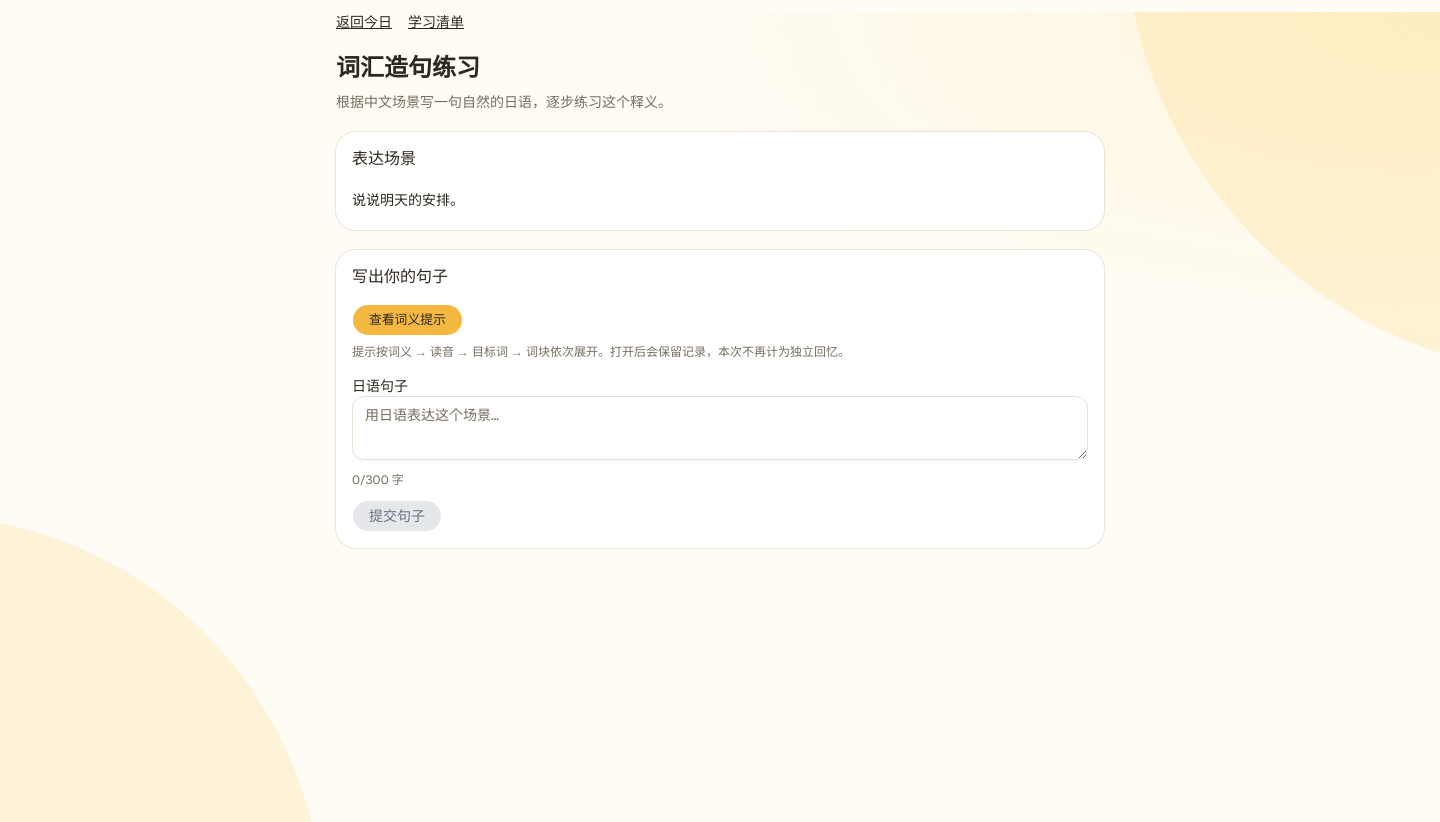
Test: vocabulary evidence boundaries › replays the original UUID and sentence after REQUEST_TIMEOUT
The image size is (1440, 822).
Type "  予定があります。  " into the text box labelled "日语句子" at (720, 428), box [352,396,1088,460]
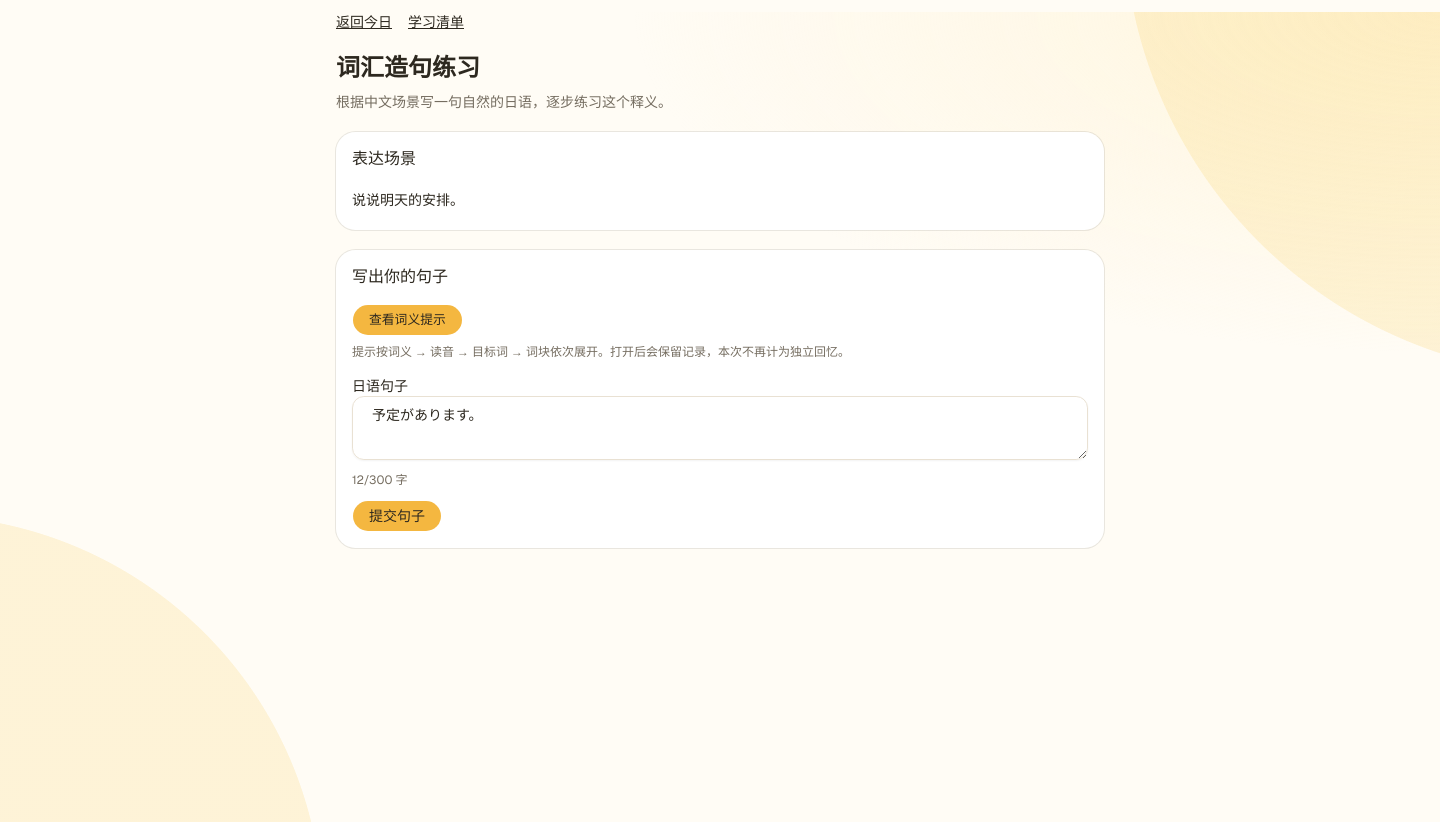
Click the button "提交句子" at (397, 516), box [352,500,442,532]
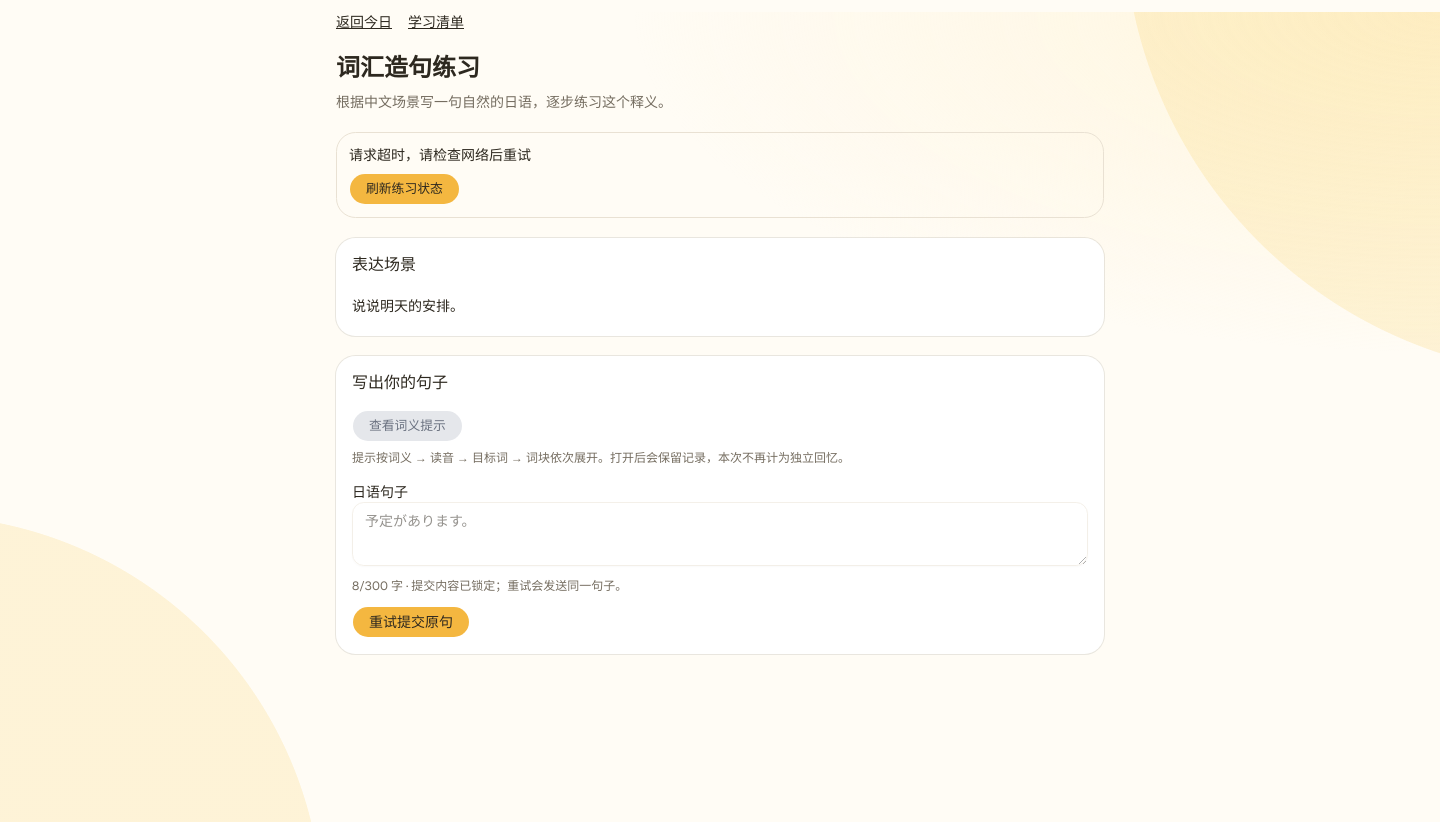
Check: the button "重试提交原句" is enabled
Check: the text box labelled "日语句子" is disabled, box [352,502,1088,566]
Click the button "重试提交原句" at (411, 622), box [352,606,470,638]
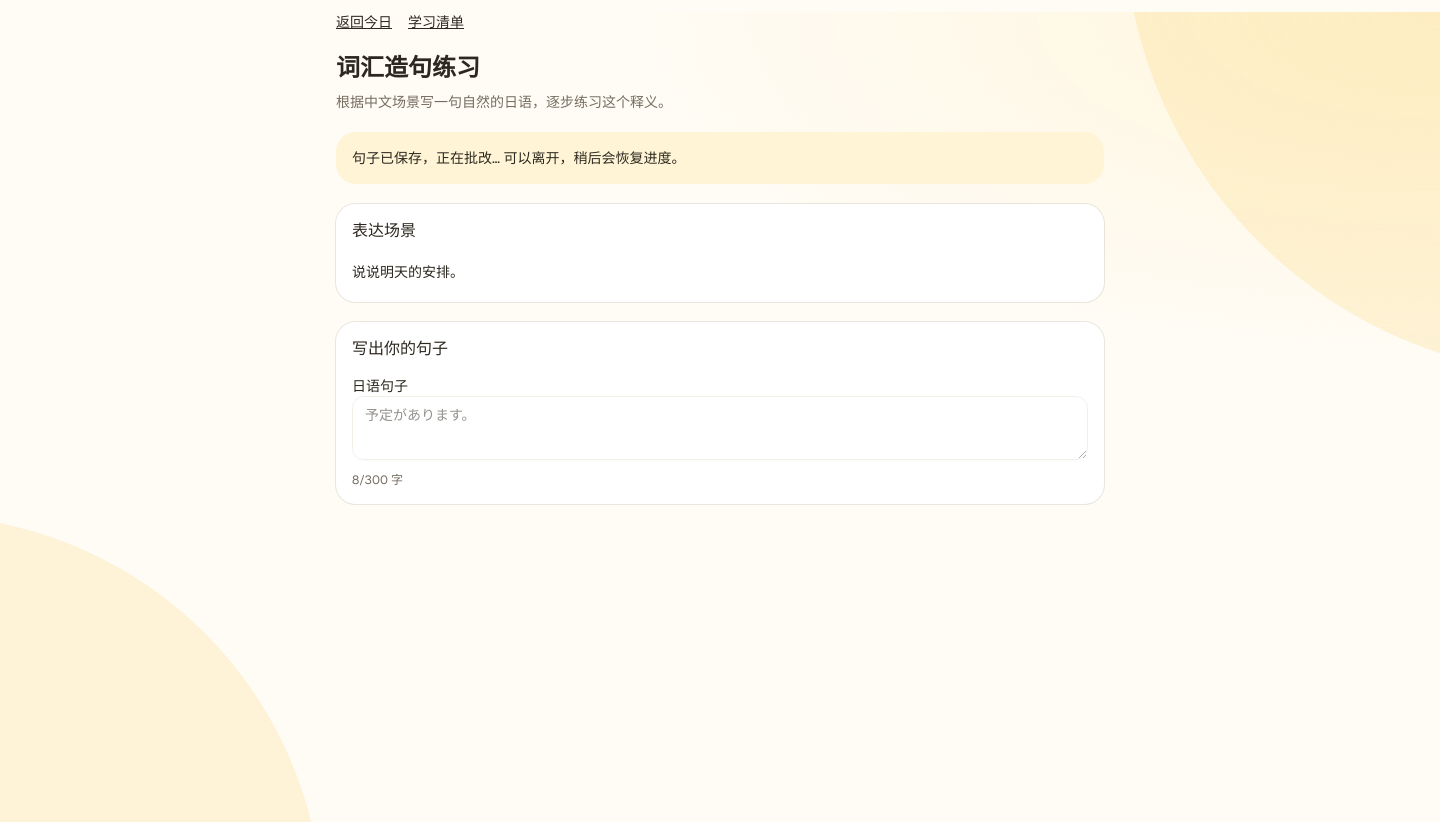
Check: the text "句子已保存，正在批改… 可以离开，稍后会恢复进度。" is shown, box [336,132,1104,184]
